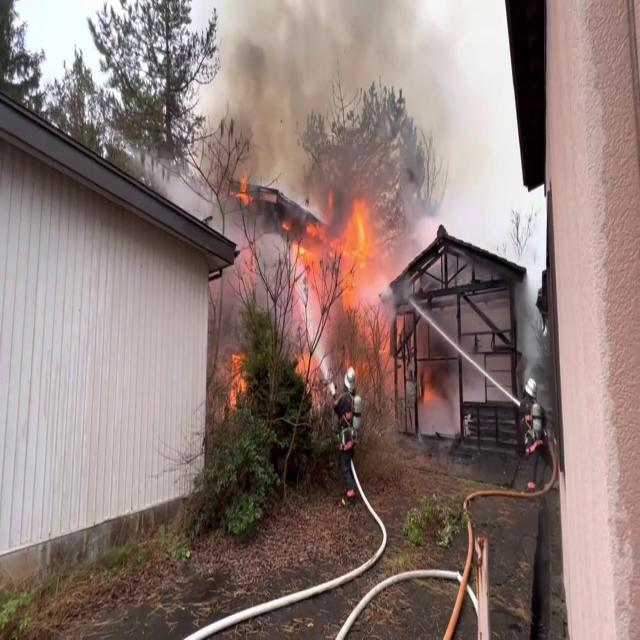Fire: (291, 192, 384, 382)
Smoke: (194, 0, 490, 201), (192, 0, 368, 193)
